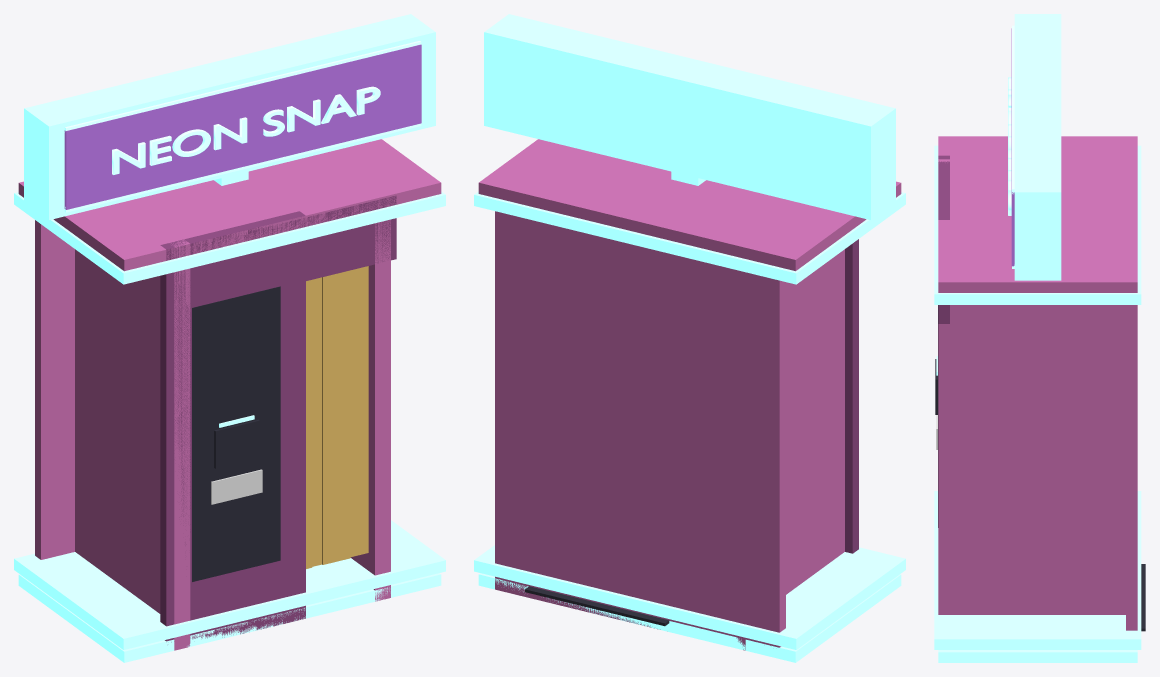
3 views of the same model, side by side, from view 1: azimuth 30°, elevation 25°; view 2: azimuth 150°, elevation 25°; view 3: azimuth 270°, elevation 25° (orthographic). The views are drawn at different scales.
Visible parts, largest first — view 1: wall_L, front_L, sign_panel, m_frame, roof, sign_body, trim_B, wall_B, wall_R, curtain_3, front_T, trim_T (+9 smaller); view 2: wall_B, sign_body, wall_L, roof, trim_B, wall_R, trim_T, front_L, base, floor_base; view 3: wall_R, roof, sign_body, trim_B, wall_B, trim_T, base, wall_L, front_L, Testo, sg_top, sign_panel (+1 smaller).
Boxes of the visible parts, x1,y1,x2,y2 form: wall_L: (75,200,190,650); front_L: (160,211,305,642); sign_panel: (64,44,421,209); m_frame: (192,286,280,581); roof: (18,139,441,271); sign_body: (24,14,435,219); trim_B: (14,520,445,649); wall_B: (35,220,74,559); wall_R: (315,151,390,601); curtain_3: (322,270,350,564); front_T: (244,195,396,294); trim_T: (14,191,445,284); wall_B: (495,182,785,647); sign_body: (484,14,895,219); wall_L: (729,200,844,650); roof: (478,139,901,271); trim_B: (474,545,905,649); wall_R: (529,151,604,601); trim_T: (474,191,905,284); front_L: (845,239,858,553); base: (478,573,901,662); floor_base: (525,586,669,626); wall_R: (938,252,1137,614); roof: (938,136,1137,292); sign_body: (1014,14,1061,280); trim_B: (934,491,1141,649); wall_B: (1126,143,1137,630); trim_T: (934,145,1141,304); base: (938,650,1137,662); wall_L: (938,159,1137,166); front_L: (938,155,949,219); Testo: (1008,77,1011,215); sg_top: (1012,25,1014,194); sign_panel: (1011,28,1014,266).
Bounding box in the file's own units: 2.16 × 2.75 × 1.08.
